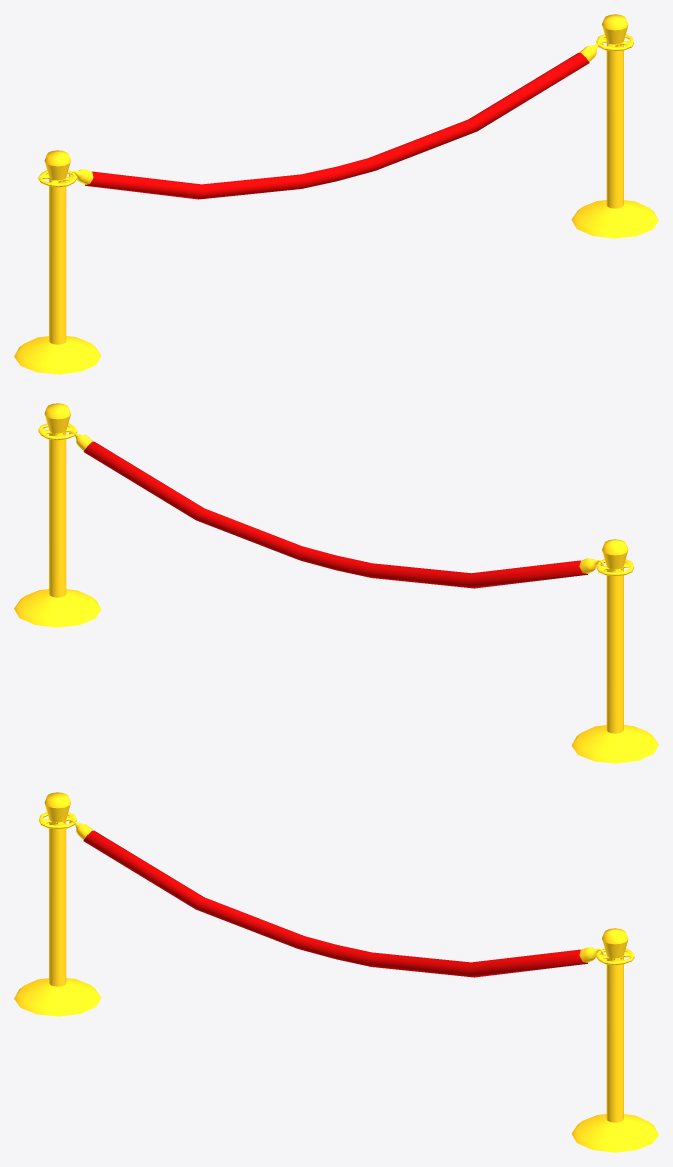
The model's file is VipRopeGold.glb.
The picture shows the model from 3 angles, top to bottom: view 1: azimuth 30°, elevation 25°; view 2: azimuth 150°, elevation 25°; view 3: azimuth 330°, elevation 25°; orthographic projection.
Visible parts, largest first — view 1: VipRopeGold; view 2: VipRopeGold; view 3: VipRopeGold.
Boxes of the visible parts, x1,y1,x2,y2 form: VipRopeGold: (14,14,658,374); VipRopeGold: (14,403,658,763); VipRopeGold: (14,792,658,1152).
Bounding box in the file's own units: 3.82 × 1.17 × 0.4581.
Materials: 2 (2 with a texture image).
